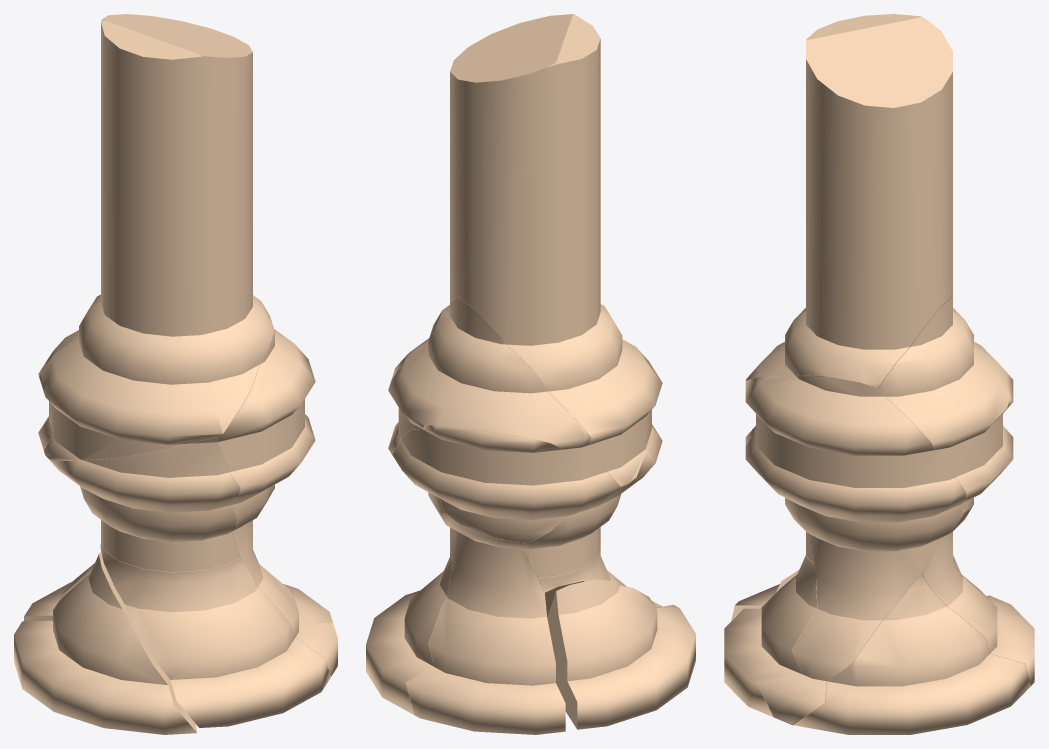
The model's file is Pillar_Broken_C.fbx.
The picture shows the model from 3 angles, left to right: view 1: azimuth 30°, elevation 25°; view 2: azimuth 150°, elevation 25°; view 3: azimuth 270°, elevation 25°; orthographic projection.
Parts seen in each view (by area): view 1: Pillar_Broken_C; view 2: Pillar_Broken_C; view 3: Pillar_Broken_C.
Part boxes in pixels (x1,y1,x2,y2): Pillar_Broken_C: [14, 14, 337, 734]; Pillar_Broken_C: [366, 14, 695, 734]; Pillar_Broken_C: [724, 14, 1034, 734].
Size of the model in its own units: 265 by 576 by 259.
